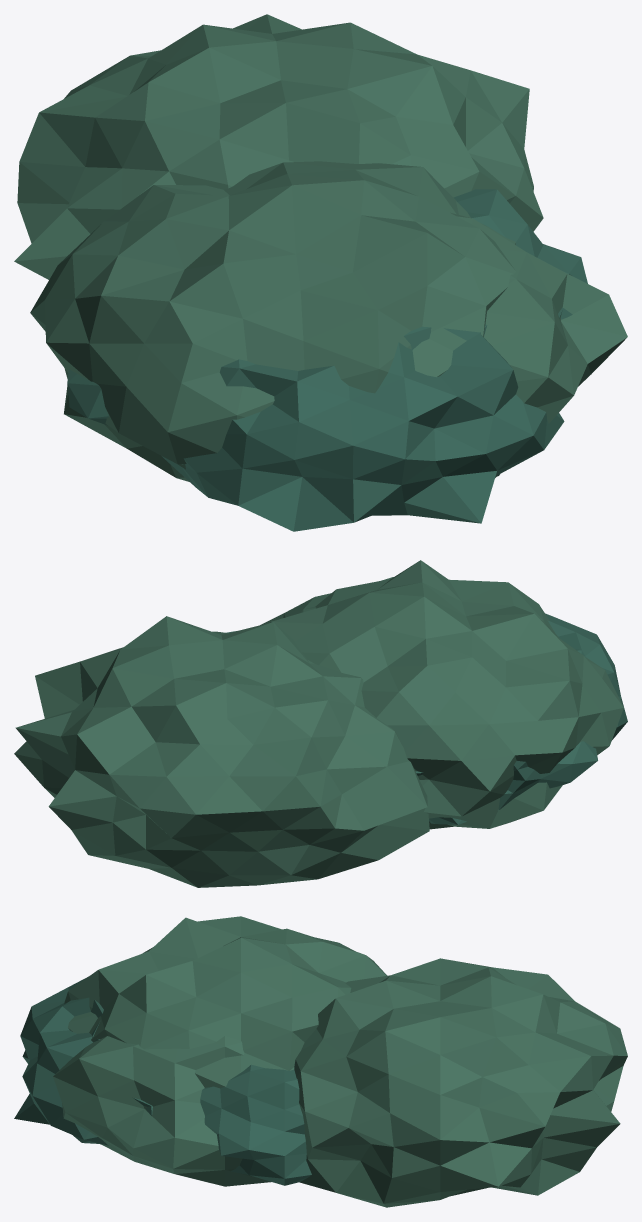
Rendered from juniper_1.glb.
3 views of the same model, one above another, from view 1: azimuth 30°, elevation 25°; view 2: azimuth 150°, elevation 25°; view 3: azimuth 270°, elevation 25° (orthographic). The views are drawn at different scales.
Visible parts, largest first — view 1: juniper_1; view 2: juniper_1; view 3: juniper_1.
Part boxes in pixels (x1=…): juniper_1: x1=14, y1=14, x2=627, y2=531; juniper_1: x1=14, y1=560, x2=627, y2=887; juniper_1: x1=14, y1=916, x2=627, y2=1207.
Bounding box in the file's own units: 2.41 × 0.9123 × 2.98.
